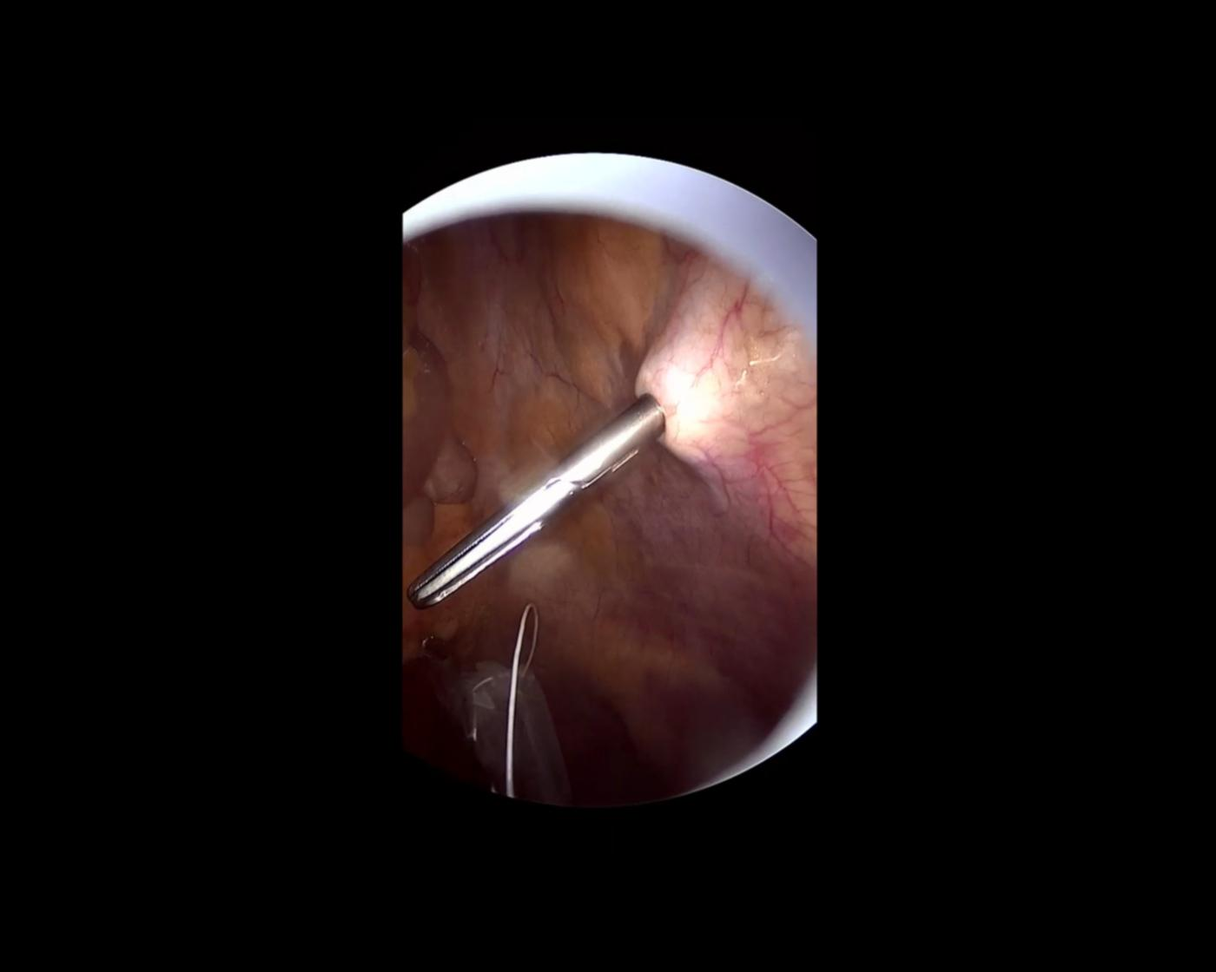Bag: (441, 605, 577, 823)
Forceps: (397, 388, 676, 627)
